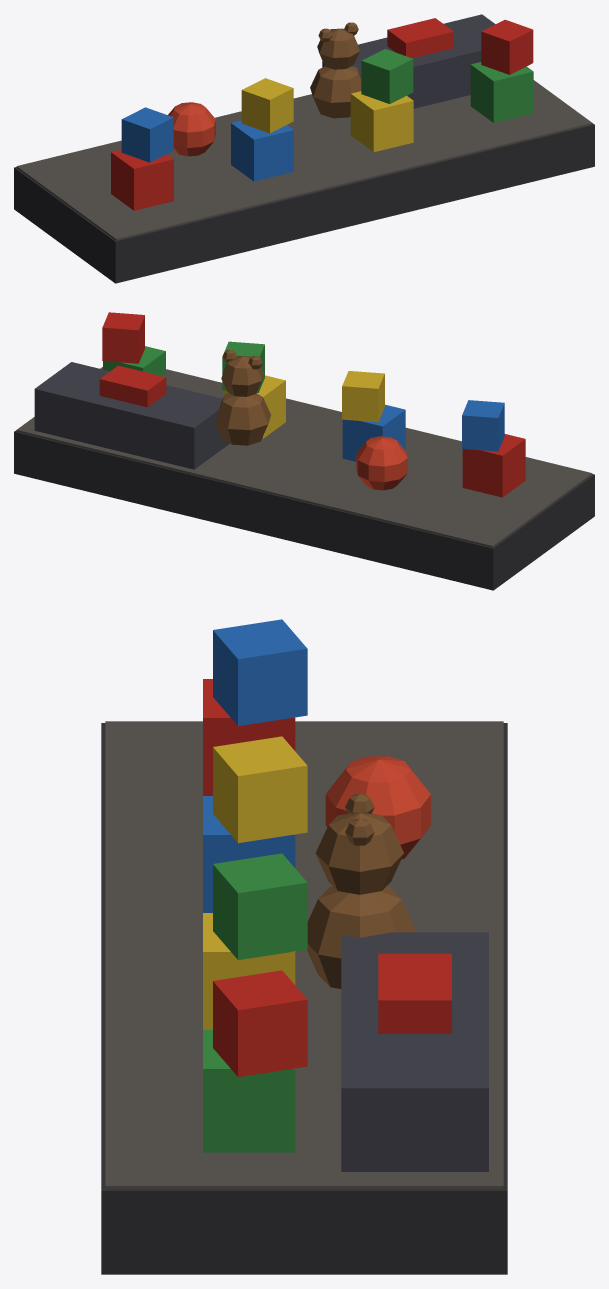
File: display_toys.glb
The picture shows the model from 3 angles, top to bottom: view 1: azimuth 30°, elevation 25°; view 2: azimuth 150°, elevation 25°; view 3: azimuth 270°, elevation 25°; orthographic projection. The views are drawn at different scales.
Visible parts, largest first — view 1: display_toys; view 2: display_toys; view 3: display_toys.
Boxes of the visible parts, bbox=[...] form: display_toys: bbox=[14, 14, 594, 283]; display_toys: bbox=[14, 312, 594, 590]; display_toys: bbox=[101, 619, 507, 1274].
Bounding box in the file's own units: 3 × 0.84 × 1.1.
